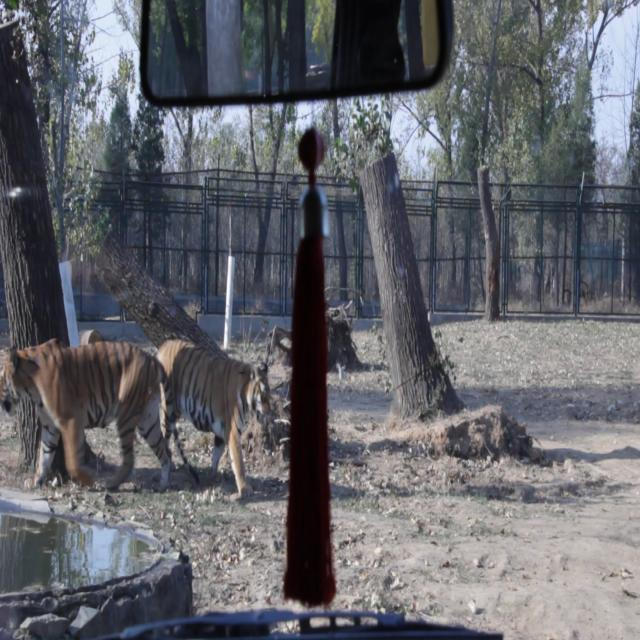Tiger: (0, 332, 193, 502), (157, 323, 277, 500)
